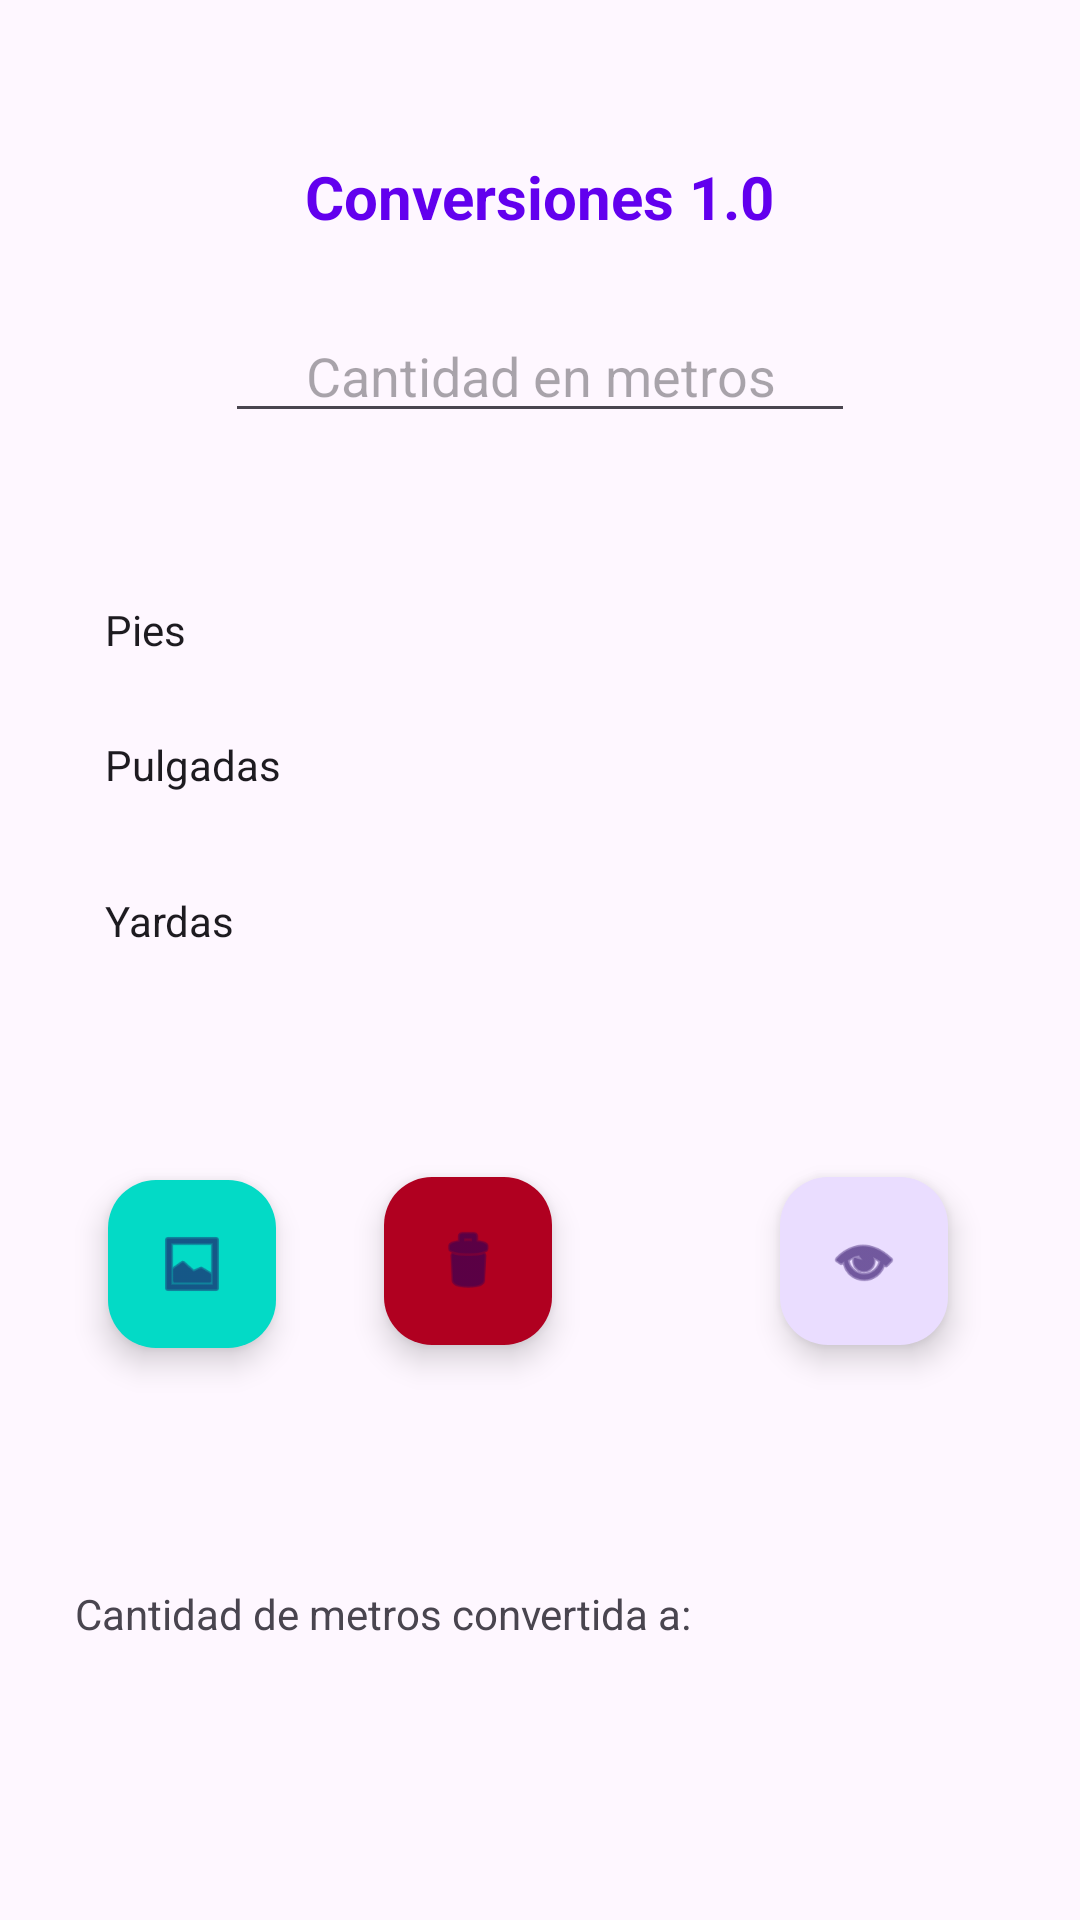

Icons on this 1080px×1920px Android screen, each with its box as (x1, y1, x2, y2):
delete: (384, 1177, 552, 1345)
gallery: (108, 1180, 276, 1348)
view: (834, 1244, 894, 1282)
